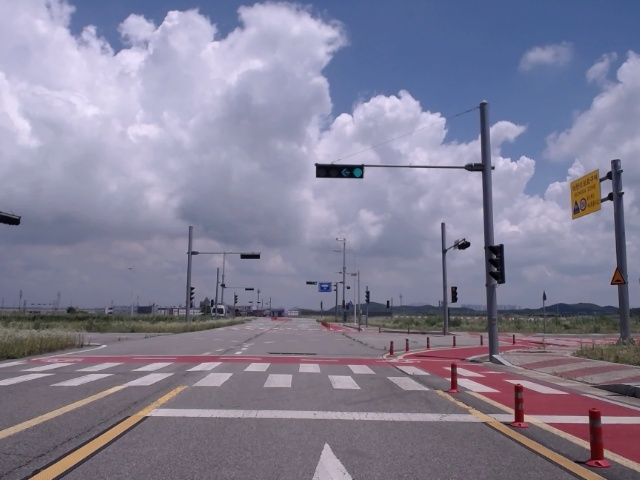all_green_4: (315, 164, 364, 181)
